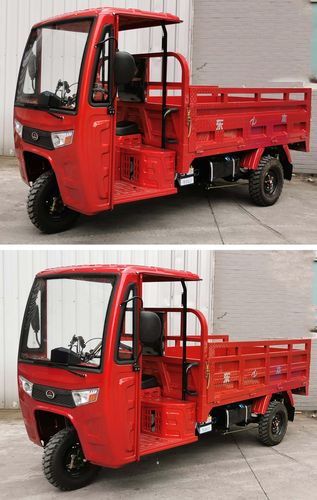empty: (5, 254, 310, 487), (7, 4, 312, 232)
